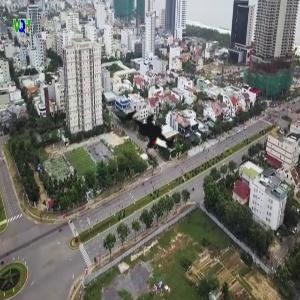drone: (99, 89, 193, 183)
